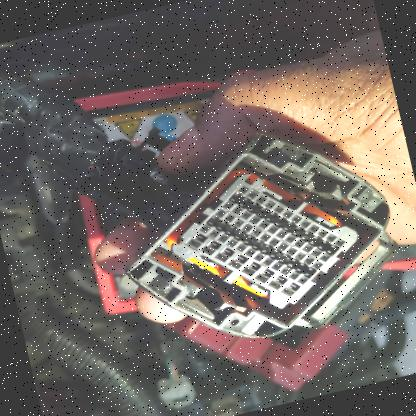Connector: (81, 99, 415, 382)
